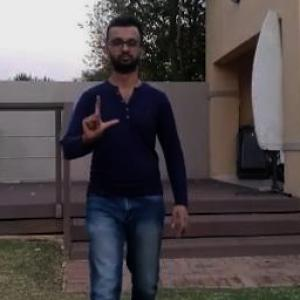land_hand: (77, 83, 128, 147)
